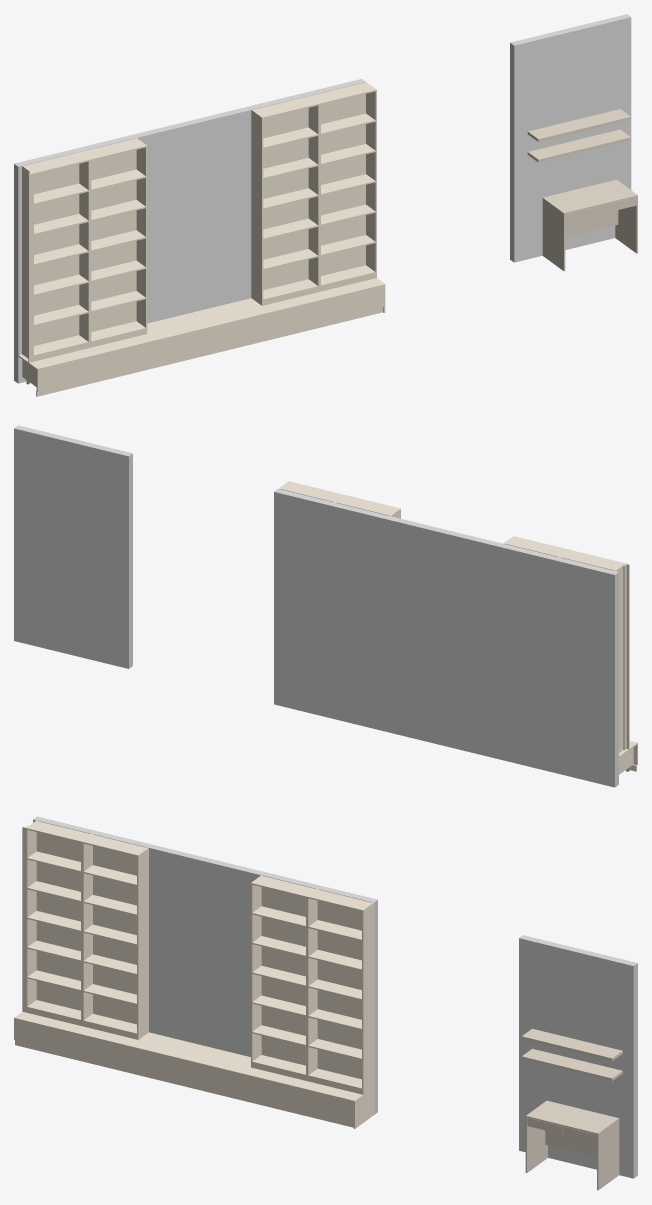
The model's file is 20-GYEREKJATSZO.glb.
The picture shows the model from 3 angles, top to bottom: view 1: azimuth 30°, elevation 25°; view 2: azimuth 150°, elevation 25°; view 3: azimuth 330°, elevation 25°; orthographic projection. The views are drawn at different scales.
Parts seen in each view (by area): view 1: 3DGeom-1, 3DGeom-230, 3DGeom-148, 3DGeom-105, 3DGeom-191, 3DGeom-62, 3DGeom-2, 3DGeom-19, 3DGeom-35, 3DGeom-20, 3DGeom-96, 3DGeom-103 (+19 smaller); view 2: 3DGeom-1, 3DGeom-230, 3DGeom-182, 3DGeom-226, 3DGeom-93, 3DGeom-50, 3DGeom-136, 3DGeom-179, 3DGeom-228; view 3: 3DGeom-1, 3DGeom-230, 3DGeom-62, 3DGeom-191, 3DGeom-105, 3DGeom-148, 3DGeom-2, 3DGeom-19, 3DGeom-35, 3DGeom-60, 3DGeom-146, 3DGeom-20 (+20 smaller).
Boxes of the visible parts, x1,y1,x2,y2 form: 3DGeom-1: (14,79,365,383); 3DGeom-230: (510,14,631,262); 3DGeom-148: (91,150,136,331); 3DGeom-105: (263,108,308,289); 3DGeom-191: (34,164,79,345); 3DGeom-62: (321,94,365,275); 3DGeom-2: (36,340,155,391); 3DGeom-19: (156,312,270,362); 3DGeom-35: (270,284,383,334); 3DGeom-20: (147,298,269,339); 3DGeom-96: (251,109,262,305); 3DGeom-103: (307,96,318,285); 3DGeom-1: (274,489,618,787); 3DGeom-230: (14,425,132,668); 3DGeom-182: (614,563,625,752); 3DGeom-226: (623,564,626,749); 3DGeom-93: (336,495,399,515); 3DGeom-50: (280,481,342,501); 3DGeom-136: (505,536,567,556); 3DGeom-179: (561,550,624,570); 3DGeom-228: (625,563,628,749); 3DGeom-1: (33,816,377,1114); 3DGeom-230: (519,935,637,1178); 3DGeom-62: (317,900,361,1079); 3DGeom-191: (36,832,80,1010); 3DGeom-105: (261,887,305,1065); 3DGeom-148: (93,846,136,1024); 3DGeom-2: (14,1018,129,1067); 3DGeom-19: (130,1046,242,1095); 3DGeom-35: (242,1073,353,1122); 3DGeom-60: (362,902,373,1094); 3DGeom-146: (137,847,148,1039); 3DGeom-20: (131,1032,250,1072).
Size of the model in its own units: 8.28 by 2.8 by 0.6.
Materials: 12 (5 with a texture image).
